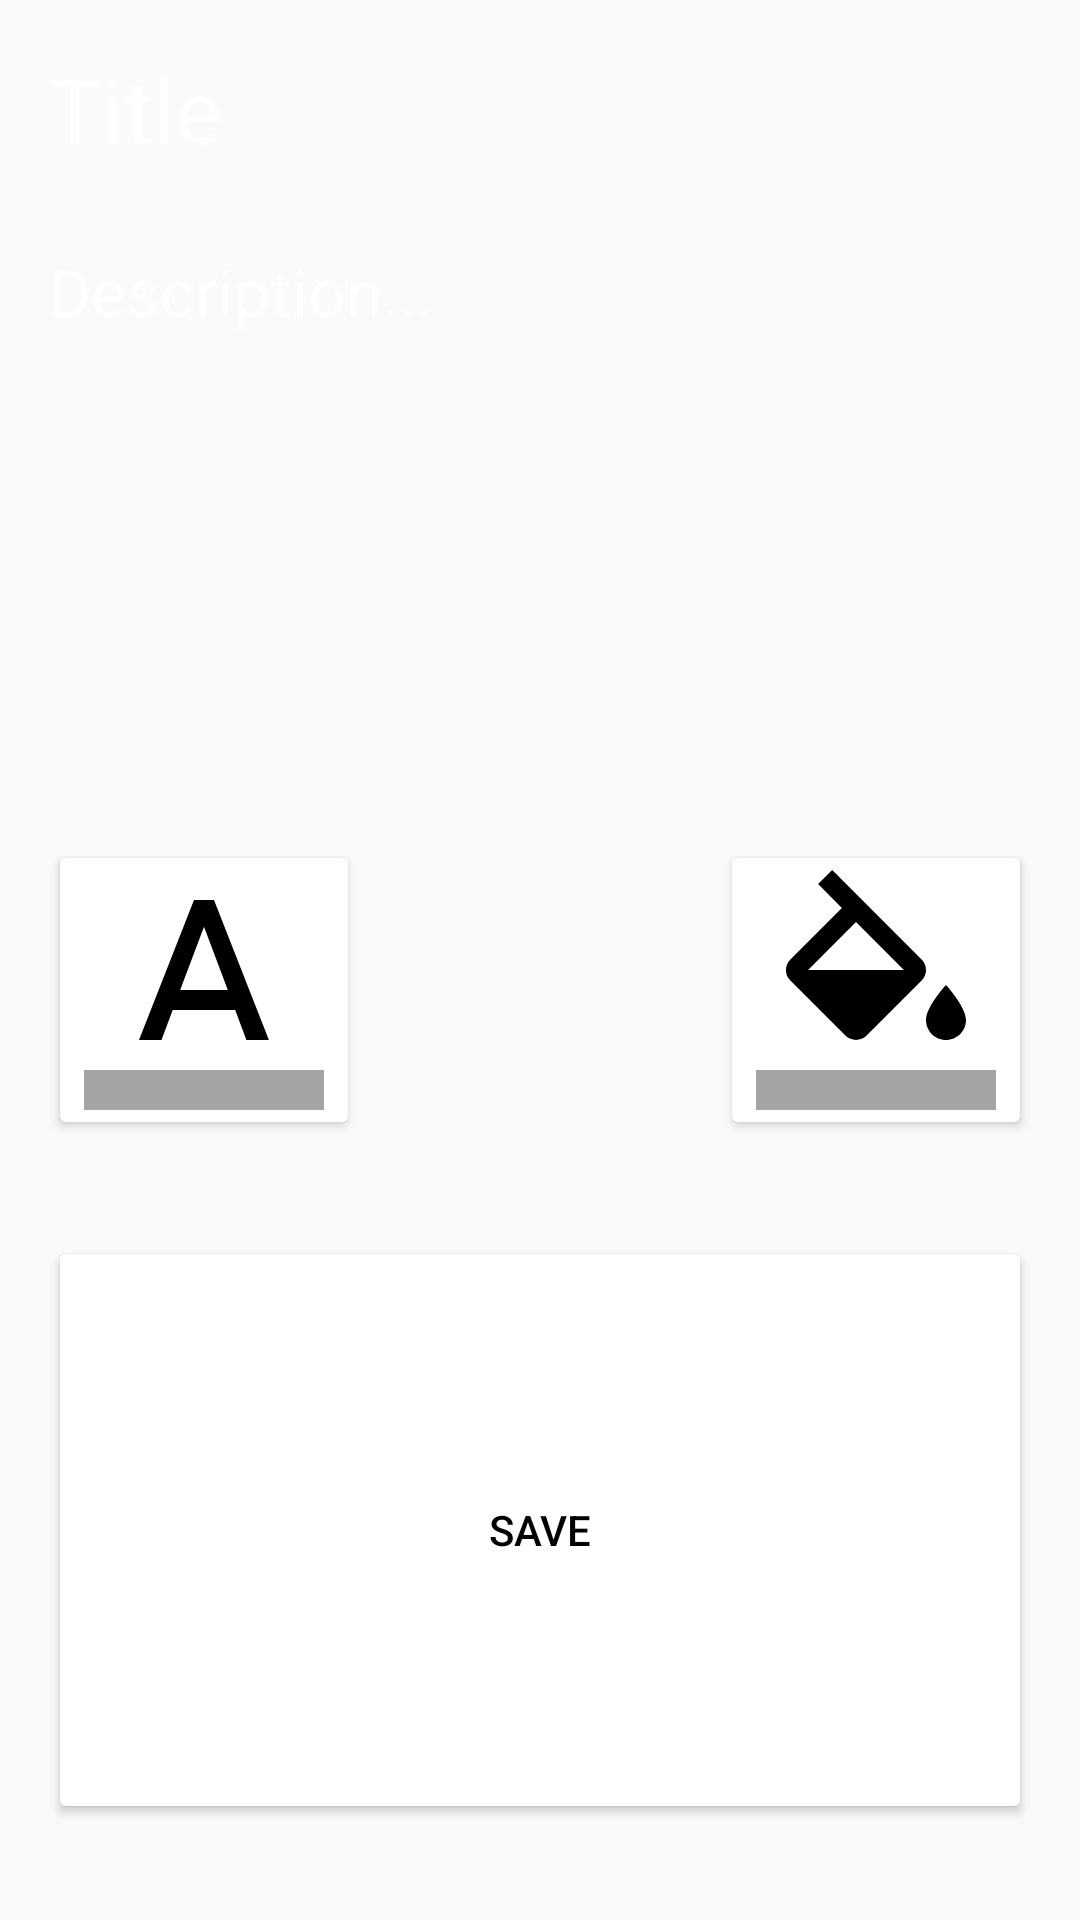

Where icons sit on this 1080px x 1920px app screen, as (x1, y1, x2, y2):
format text: (59, 866, 346, 1125)
